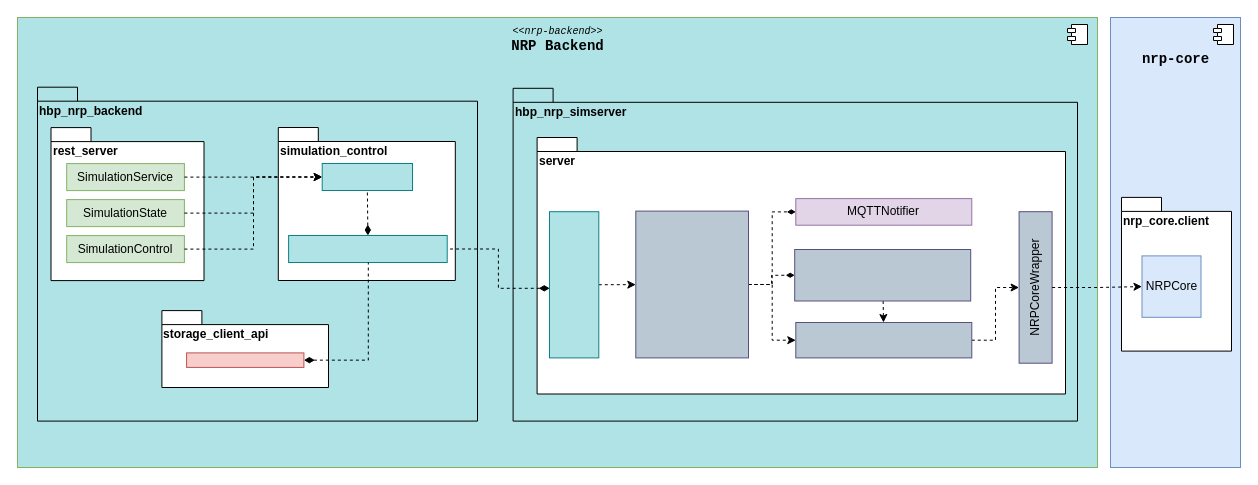
This 1258x485 diagram has some shape labels left out. The centre of each missing label's shape, as x and y in pixels:
"BackendSimulationLifecycle" goes at point (367, 248).
"NRPCoreRunner" goes at point (883, 340).
"Simulation" goes at point (366, 176).
"SimulationServer" goes at point (691, 284).
"SimulationServer Lifecycle" goes at point (882, 274).
"SimulationServerInstance" goes at point (573, 284).
"StorageClient" goes at point (245, 359).
